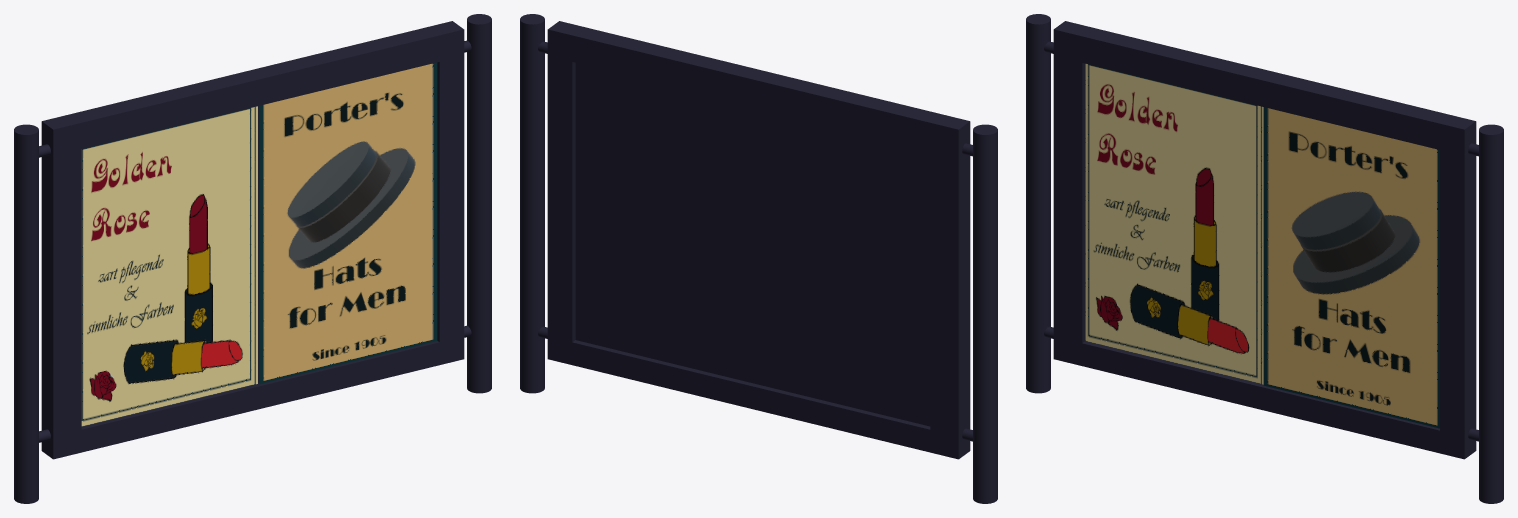
Rendered from WtGR_Lip_HatPlane.fbx.
The picture shows the model from 3 angles, left to right: view 1: azimuth 30°, elevation 25°; view 2: azimuth 150°, elevation 25°; view 3: azimuth 330°, elevation 25°; orthographic projection.
Visible parts, largest first — view 1: pPlane7; view 2: pPlane7; view 3: pPlane7.
Boxes of the visible parts, bbox=[...] form: pPlane7: bbox=[14, 14, 491, 503]; pPlane7: bbox=[520, 14, 997, 503]; pPlane7: bbox=[1026, 14, 1503, 503].
Bounding box in the file's own units: 482 × 358 × 22.03.
Materials: 3 (2 with a texture image).
